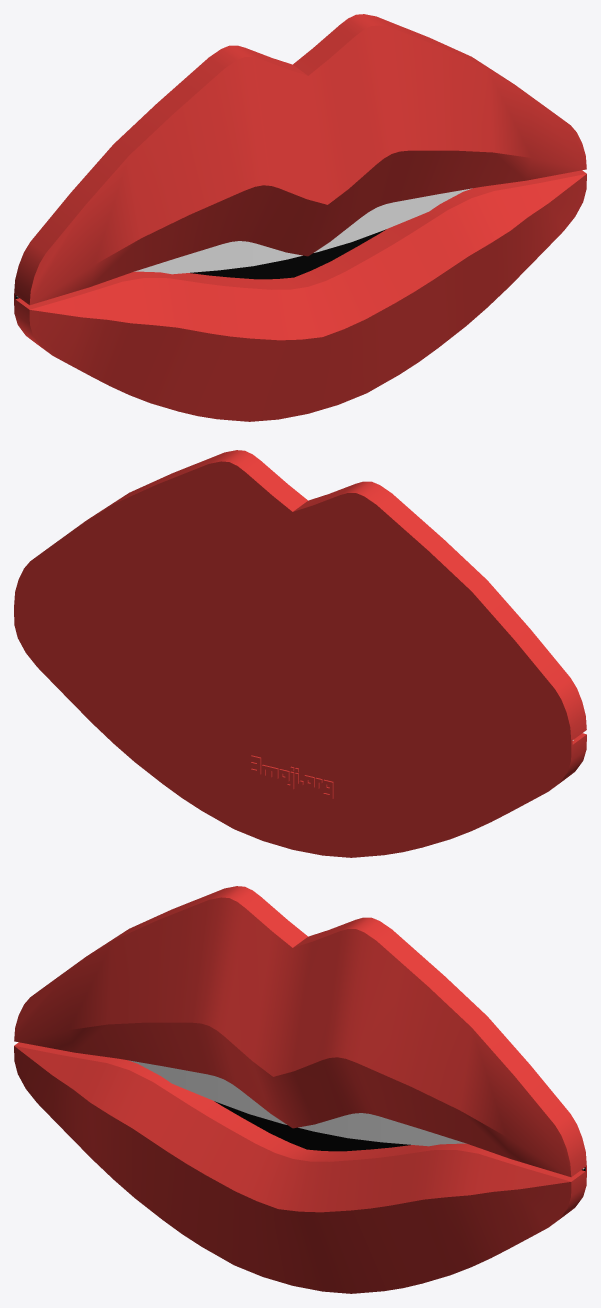
File: mouth.glb
The picture shows the model from 3 angles, top to bottom: view 1: azimuth 30°, elevation 25°; view 2: azimuth 150°, elevation 25°; view 3: azimuth 330°, elevation 25°; orthographic projection.
Parts seen in each view (by area): view 1: Plane.028; view 2: Plane.028; view 3: Plane.028.
Part boxes in pixels (box(x1,y1,x2,y2)): Plane.028: box(14, 14, 586, 421); Plane.028: box(14, 450, 586, 857); Plane.028: box(14, 886, 586, 1293).
Size of the model in its own units: 2.38 by 1.52 by 0.2665.
Materials: 1 (1 with a texture image).
